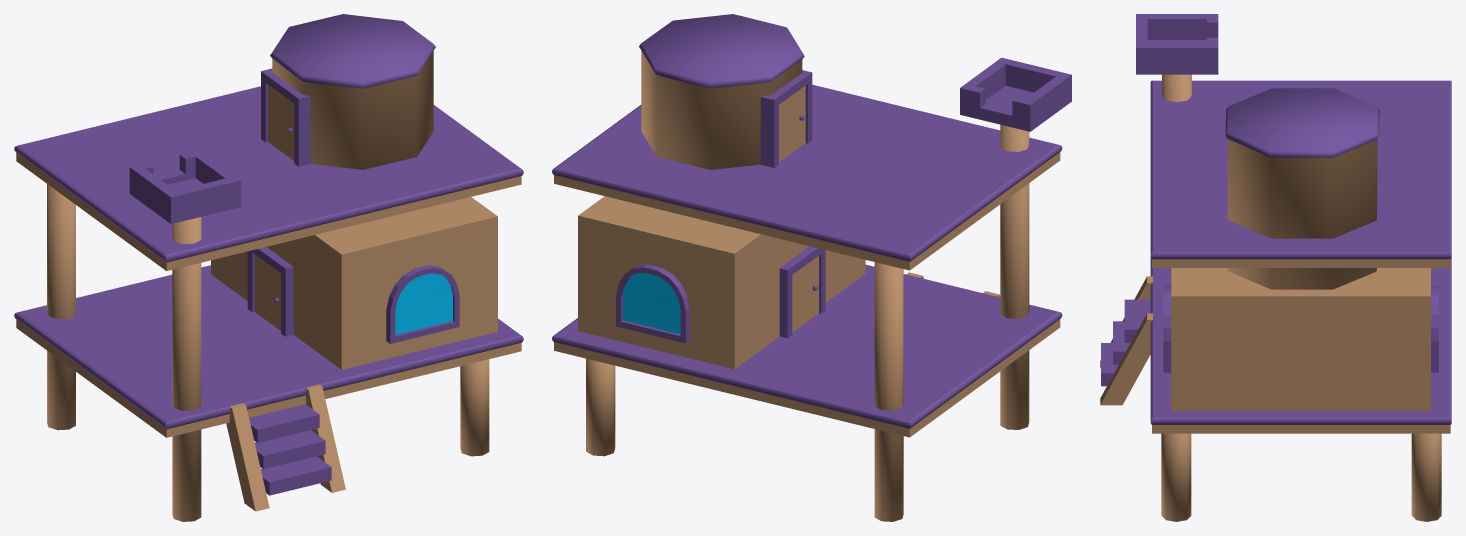
The model's file is CajaCasa 1.3.fbx.
3 views of the same model, side by side, from view 1: azimuth 30°, elevation 25°; view 2: azimuth 150°, elevation 25°; view 3: azimuth 270°, elevation 25° (orthographic).
Parts seen in each view (by area): view 1: Cylinder.008; view 2: Cylinder.008; view 3: Cylinder.008.
Part boxes in pixels (box(x1,y1,x2,y2)): Cylinder.008: box(14, 14, 523, 521); Cylinder.008: box(552, 14, 1071, 521); Cylinder.008: box(1100, 14, 1451, 521).
Size of the model in its own units: 1837 by 1803 by 1563.
